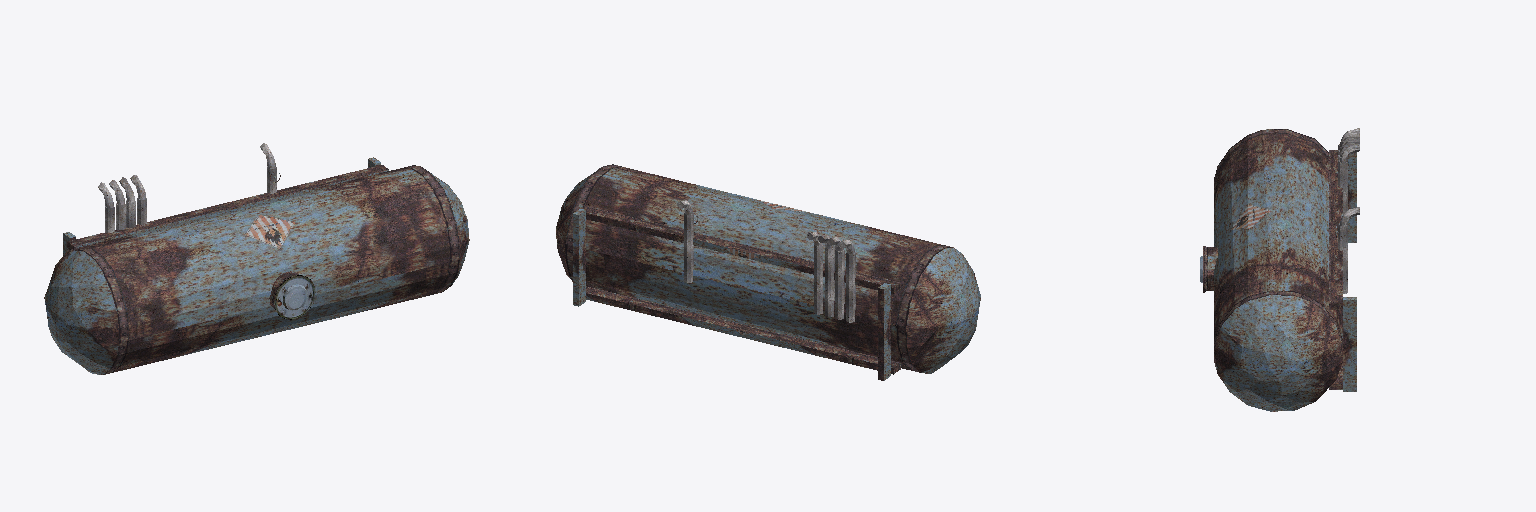
3 views of the same model, side by side, from view 1: azimuth 30°, elevation 25°; view 2: azimuth 150°, elevation 25°; view 3: azimuth 270°, elevation 25° (orthographic).
Parts seen in each view (by area): view 1: MDL_Objec1; view 2: MDL_Objec1; view 3: MDL_Objec1.
Part boxes in pixels (bbox=[...]): MDL_Objec1: bbox=[44, 143, 469, 374]; MDL_Objec1: bbox=[556, 164, 980, 380]; MDL_Objec1: bbox=[1200, 128, 1359, 411].
Bounding box in the file's own units: 10.97 × 3.74 × 3.74.
Materials: 3 (3 with a texture image).